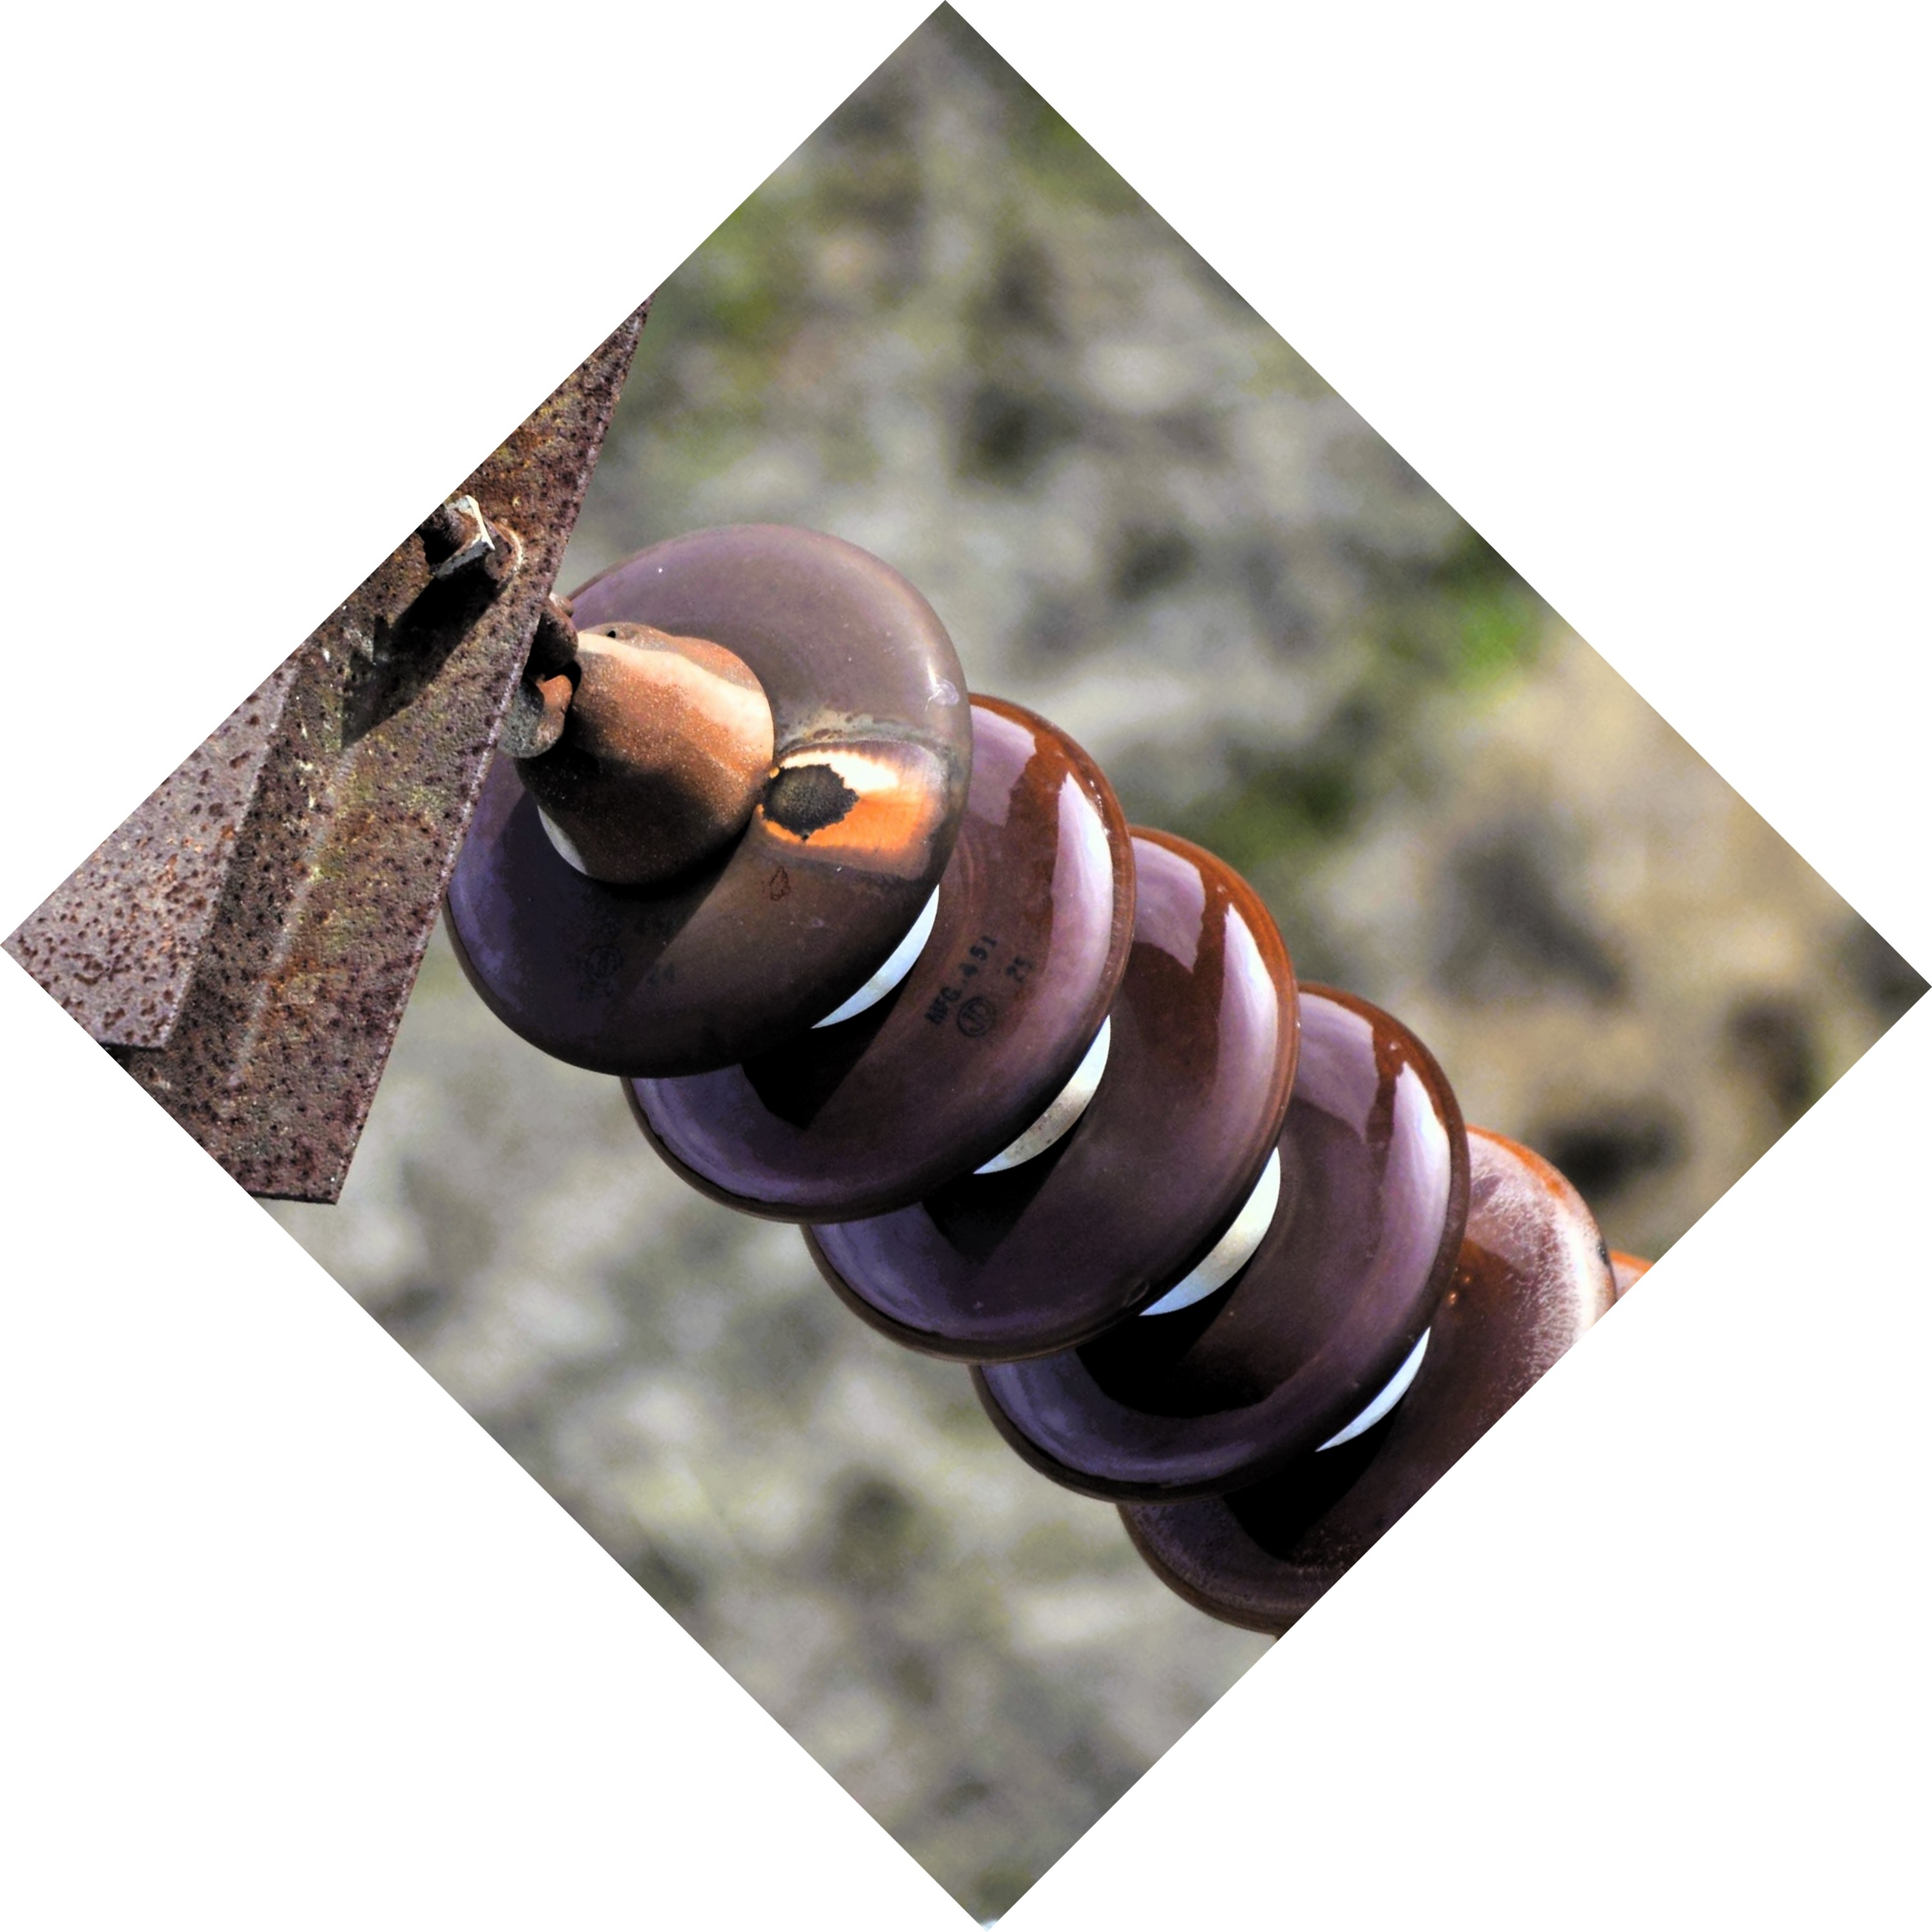Insulator flashover: (432, 510, 980, 1086)
